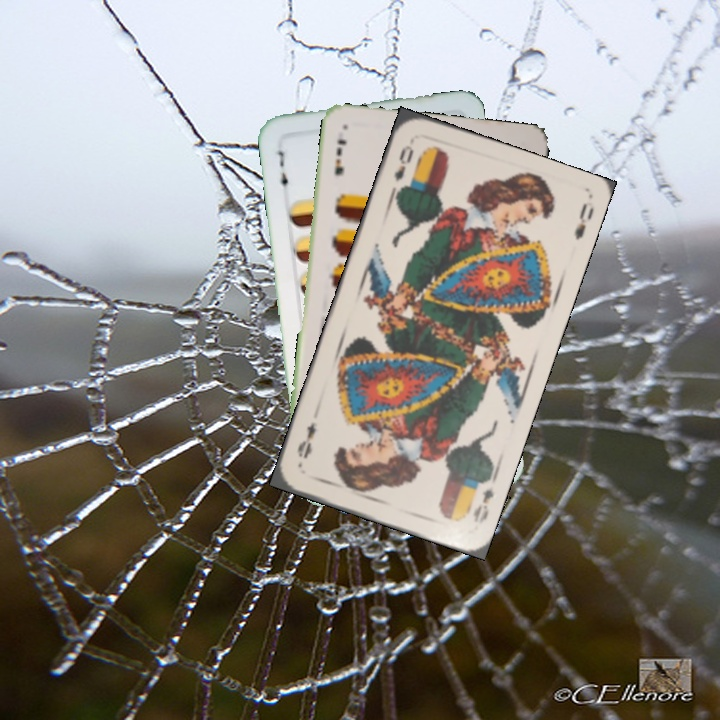E7: (273, 146, 291, 195), (330, 135, 350, 177)
EO: (463, 472, 499, 526), (390, 141, 416, 184)
